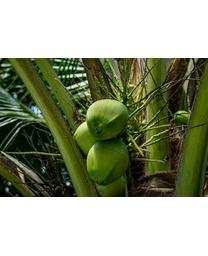coconut: (86, 141, 131, 186), (87, 99, 128, 139)
